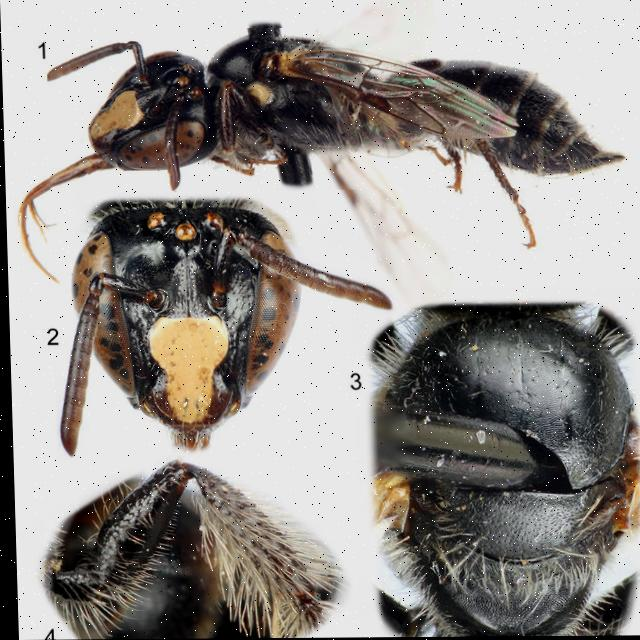Braunsapis: (348, 280, 640, 638), (46, 27, 618, 192), (44, 193, 320, 445), (48, 453, 307, 640)
